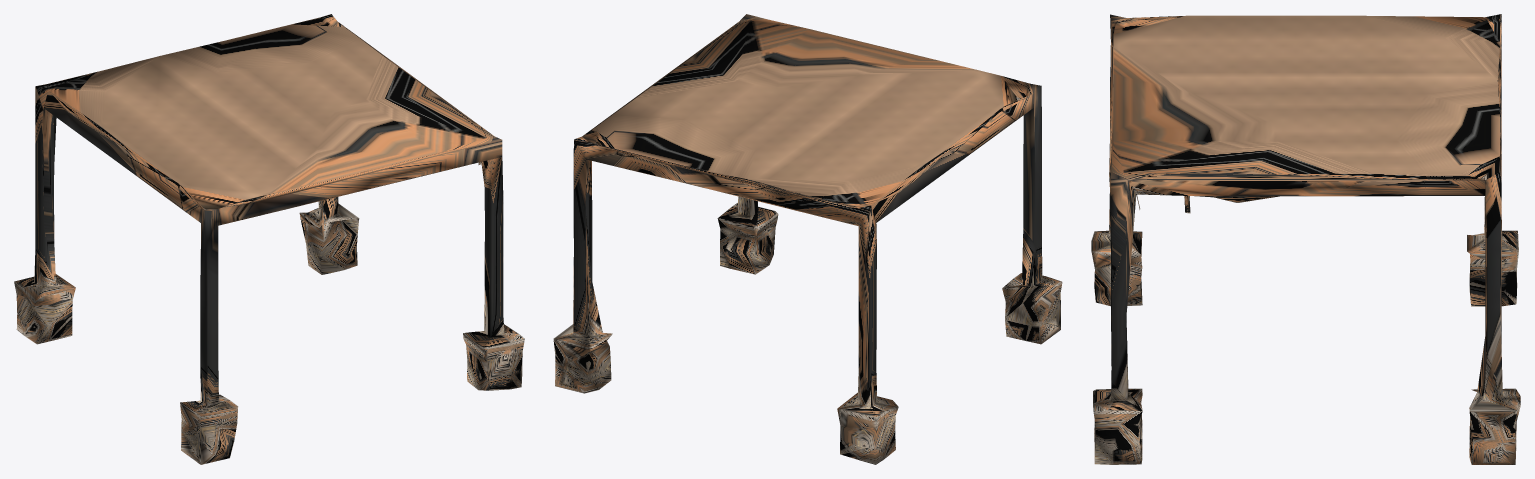
File: pergola.glb
3 renders of one model, left to right at view 1: azimuth 30°, elevation 25°; view 2: azimuth 150°, elevation 25°; view 3: azimuth 270°, elevation 25°, orthographic. The views are drawn at different scales.
Visible parts, largest first — view 1: LO; view 2: LO; view 3: LO.
Part boxes in pixels (x1,y1,x2,y2): LO: (14,14,524,464); LO: (553,14,1062,464); LO: (1091,14,1520,464).
Size of the model in its own units: 3.99 by 2.89 by 4.
1 material, 1 textured.
